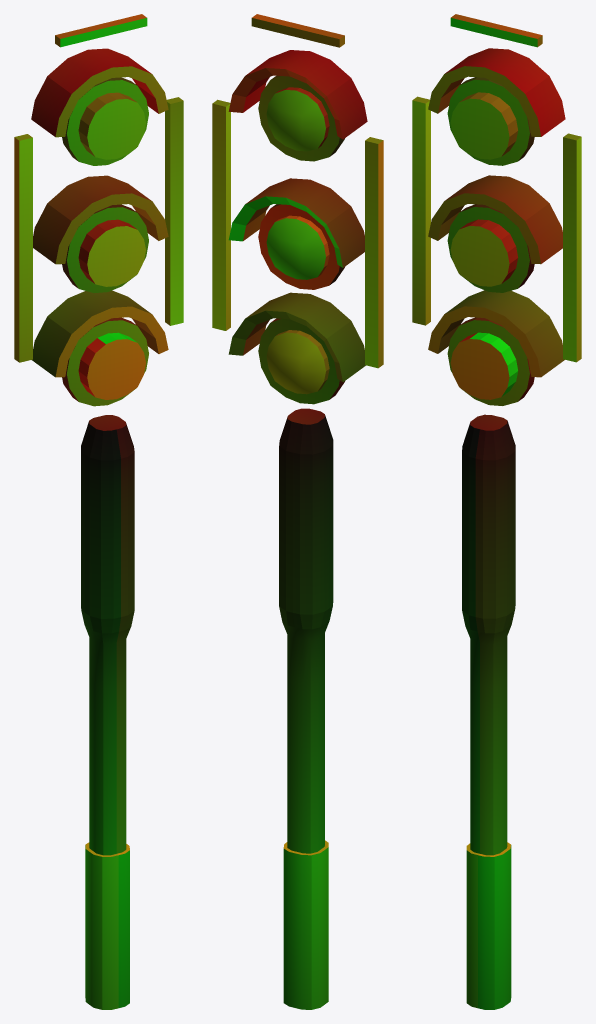
Rendered from semaforo01.fbx.
3 renders of one model, left to right at view 1: azimuth 30°, elevation 25°; view 2: azimuth 150°, elevation 25°; view 3: azimuth 330°, elevation 25°, orthographic.
Parts seen in each view (by area): view 1: Box003; view 2: Box003; view 3: Box003.
Part boxes in pixels (left/top/right/bottom): Box003: left=14, top=14, right=183, bottom=1009; Box003: left=212, top=14, right=383, bottom=1009; Box003: left=412, top=14, right=581, bottom=1009.
Size of the model in its own units: 77.82 by 439 by 27.4.
